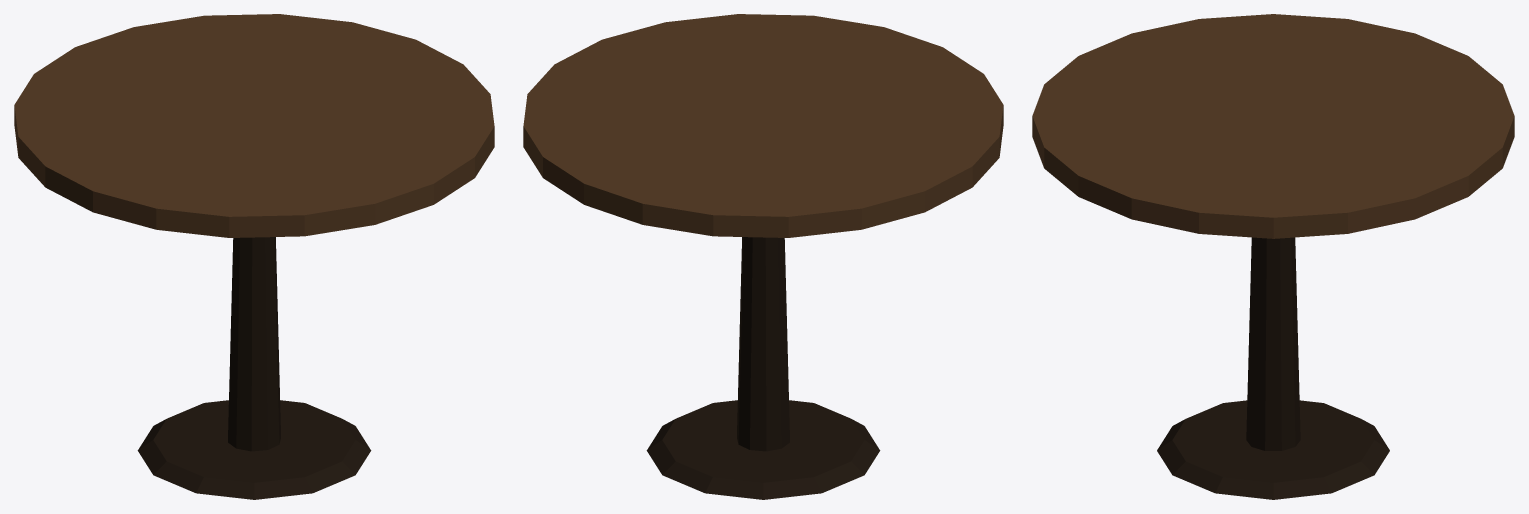
The model's file is table.glb.
3 views of the same model, side by side, from view 1: azimuth 30°, elevation 25°; view 2: azimuth 150°, elevation 25°; view 3: azimuth 270°, elevation 25° (orthographic).
Parts seen in each view (by area): view 1: table, tableLeg; view 2: table, tableLeg; view 3: table, tableLeg.
Boxes of the visible parts, x1,y1,x2,y2 form: table: [14, 14, 494, 237]; tableLeg: [137, 237, 371, 499]; table: [523, 14, 1003, 237]; tableLeg: [646, 237, 880, 499]; table: [1032, 14, 1514, 238]; tableLeg: [1157, 237, 1389, 499].
Bounding box in the file's own units: 1.24 × 0.95 × 1.24.
